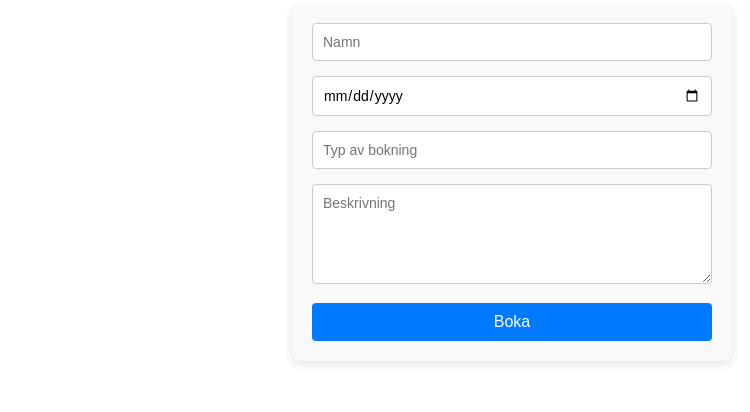
Test: BookingForm › should display an error message if required fields are empty
This screenshot has width=750, height=412.
What coordinates should you click on to do the following:
click the button
I would click on:
 (512, 322)
Its box is [312,303,712,341].
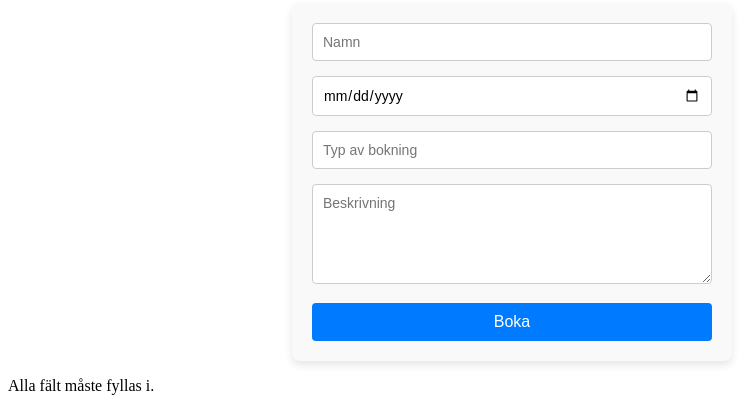
Result: the text "Alla fält måste fyllas i." is shown at [8,377,154,394]
